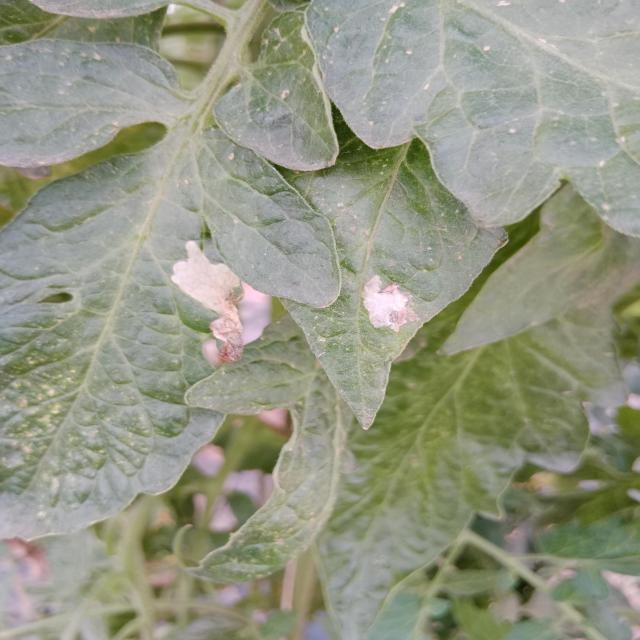Tuta absoluta: (159, 229, 275, 367), (356, 267, 421, 339)
